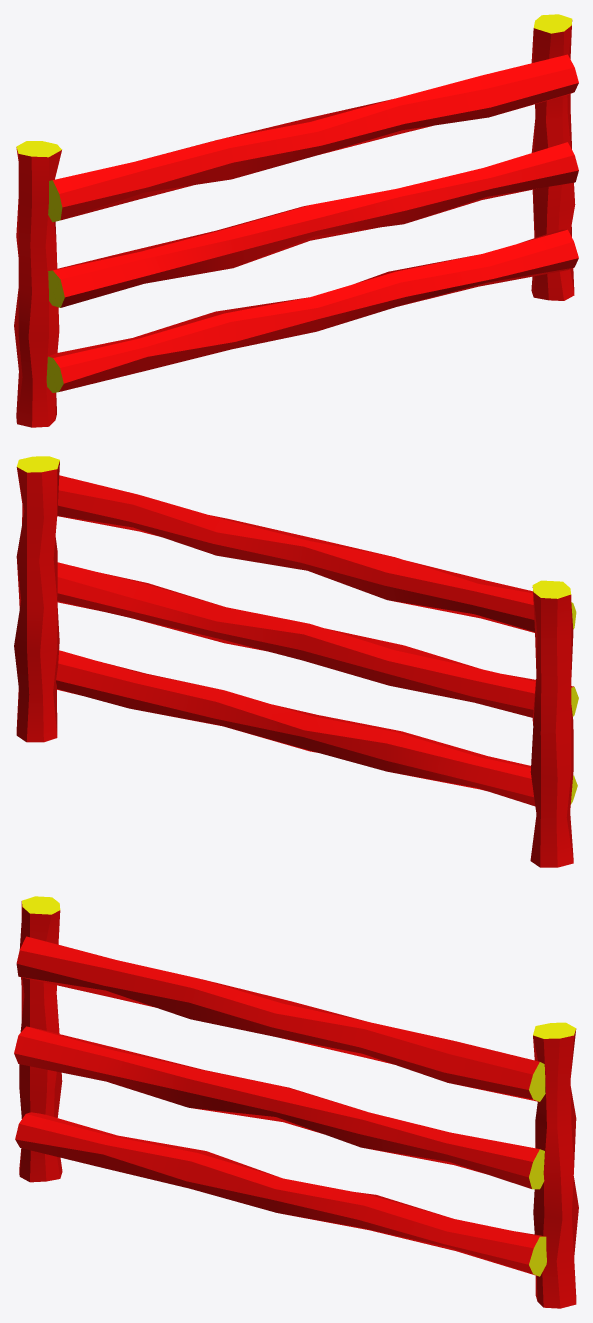
File: Abbie - Fence4.fbx
The picture shows the model from 3 angles, top to bottom: view 1: azimuth 30°, elevation 25°; view 2: azimuth 150°, elevation 25°; view 3: azimuth 330°, elevation 25°; orthographic projection.
Visible parts, largest first — view 1: fence4; view 2: fence4; view 3: fence4.
Part boxes in pixels (<box>): fence4: <box>14,14,578,427</box>; fence4: <box>14,456,578,867</box>; fence4: <box>14,896,578,1308</box>.
Bounding box in the file's own units: 2.17 × 1 × 0.2653.
